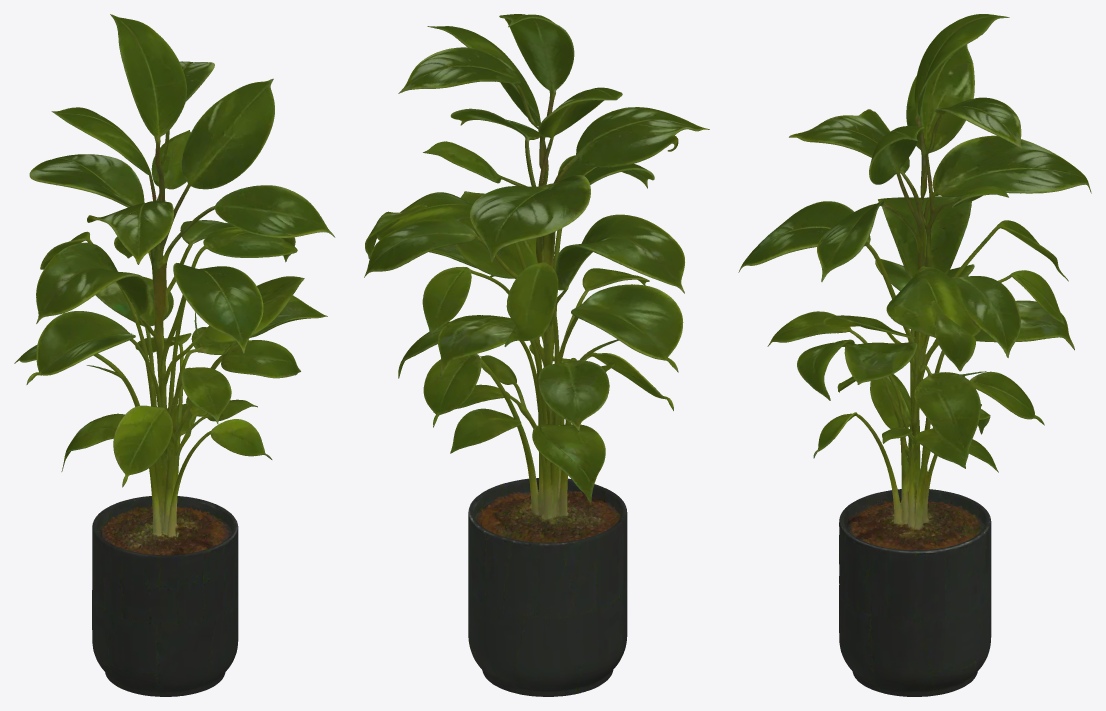
The model's file is flower-pot.glb.
3 renders of one model, left to right at view 1: azimuth 30°, elevation 25°; view 2: azimuth 150°, elevation 25°; view 3: azimuth 270°, elevation 25°, orthographic. The views are drawn at different scales.
Bounding box in the file's own units: 0.8601 × 1.9 × 0.9343.
1 material, 1 textured.
